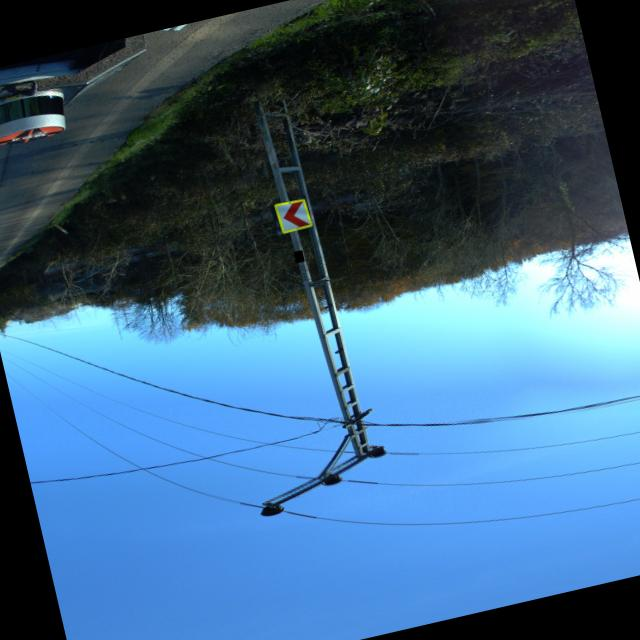Utility Pole Information Plate: (292, 249, 303, 262)
